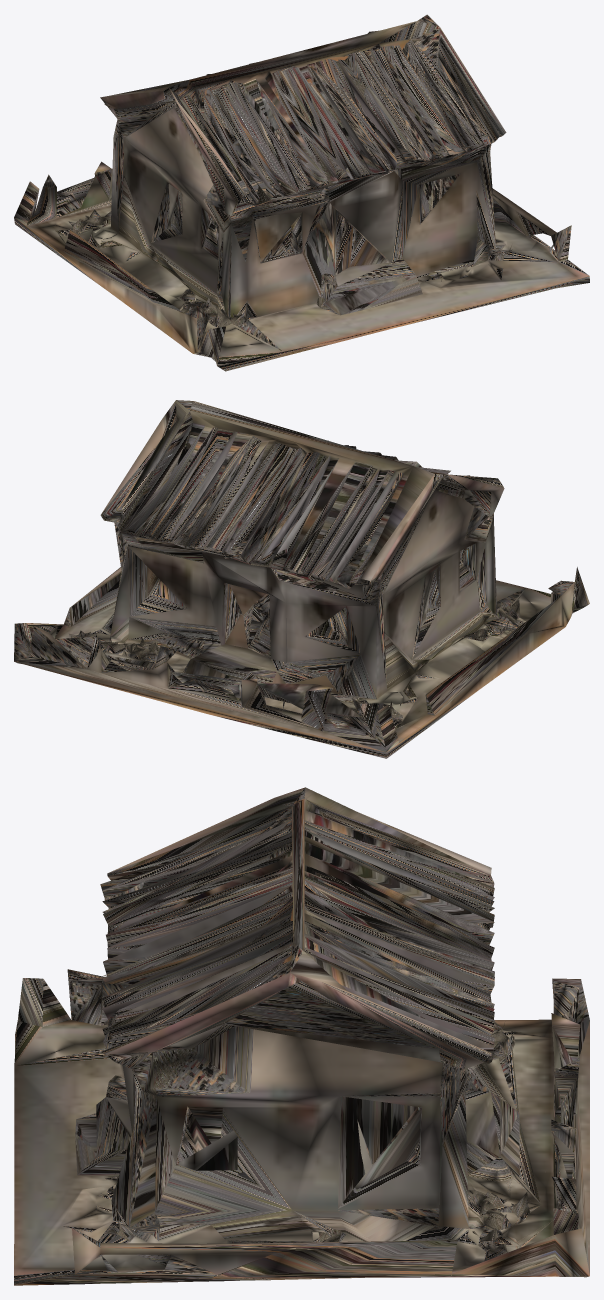
File: bq_bookstore.lod1.glb
3 views of the same model, one above another, from view 1: azimuth 30°, elevation 25°; view 2: azimuth 150°, elevation 25°; view 3: azimuth 270°, elevation 25° (orthographic). The views are drawn at different scales.
Size of the model in its own units: 1.9 by 1 by 1.79.
1 material, 1 textured.
